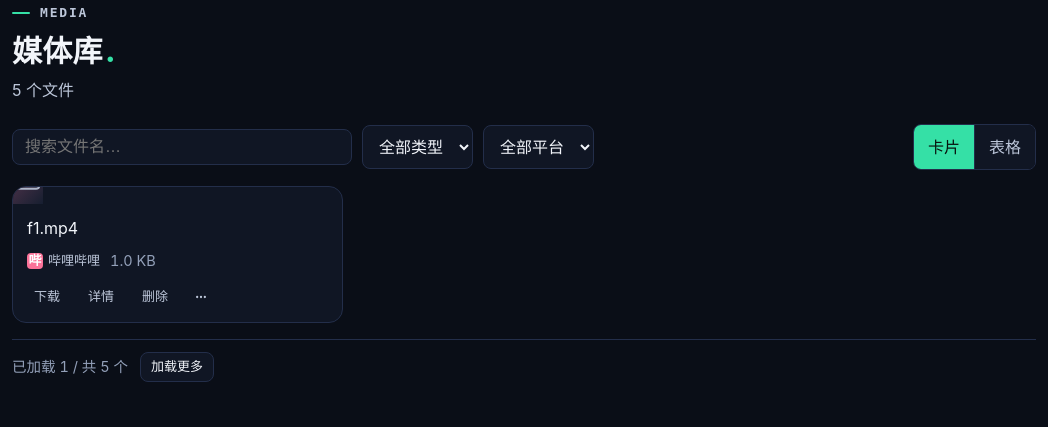
Scenario: Media 视图 › 加载更多失败只提示，不清空已经拿到的列表
Click the button "加载更多" at (177, 366), box x1=140 y1=352 x2=214 y2=382
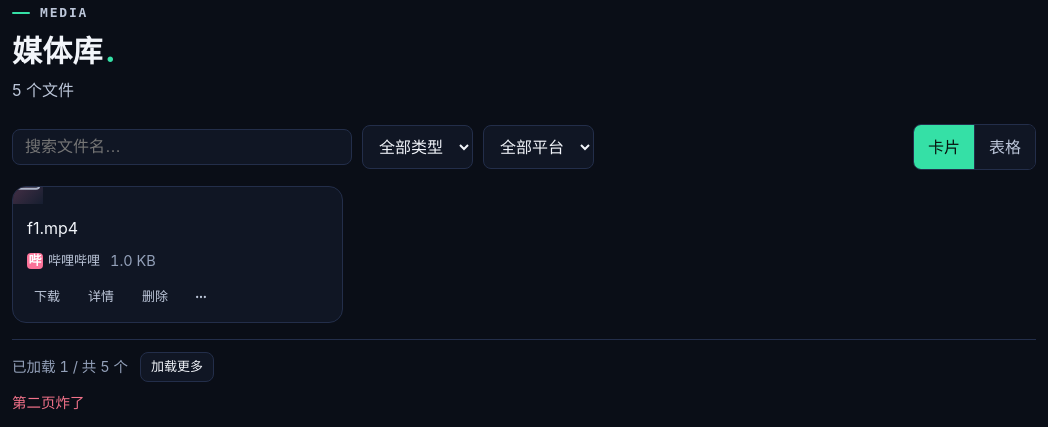
Expected: the number of list items with class "file-card" is 1, x1=12 y1=186 x2=343 y2=323
Now the message with class "more-err" reads "第二页炸了", box x1=12 y1=394 x2=84 y2=410
